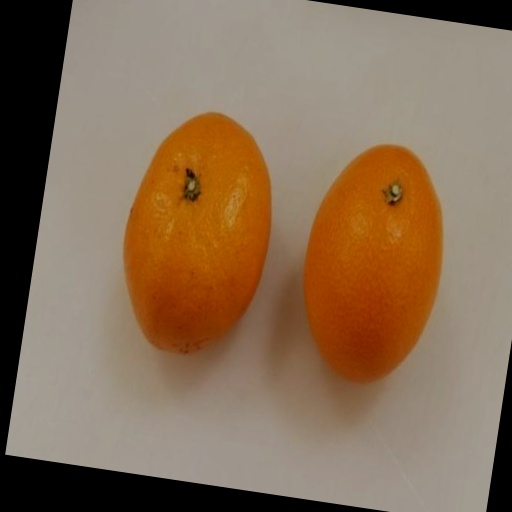fruit: (123, 114, 270, 353), (303, 145, 442, 382)
